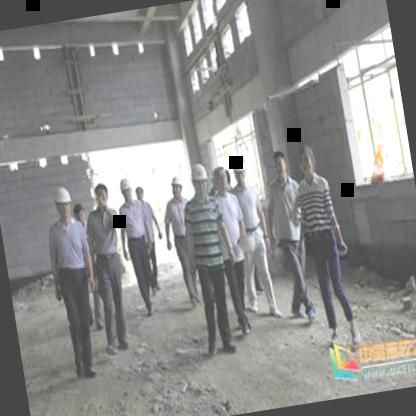head: (269, 148, 293, 186), (295, 142, 319, 178), (212, 162, 232, 196), (90, 180, 110, 211), (73, 200, 89, 228), (133, 183, 148, 206)
helmet: (51, 184, 78, 224), (187, 160, 213, 200), (230, 152, 250, 190), (166, 171, 188, 204), (116, 175, 134, 204)
